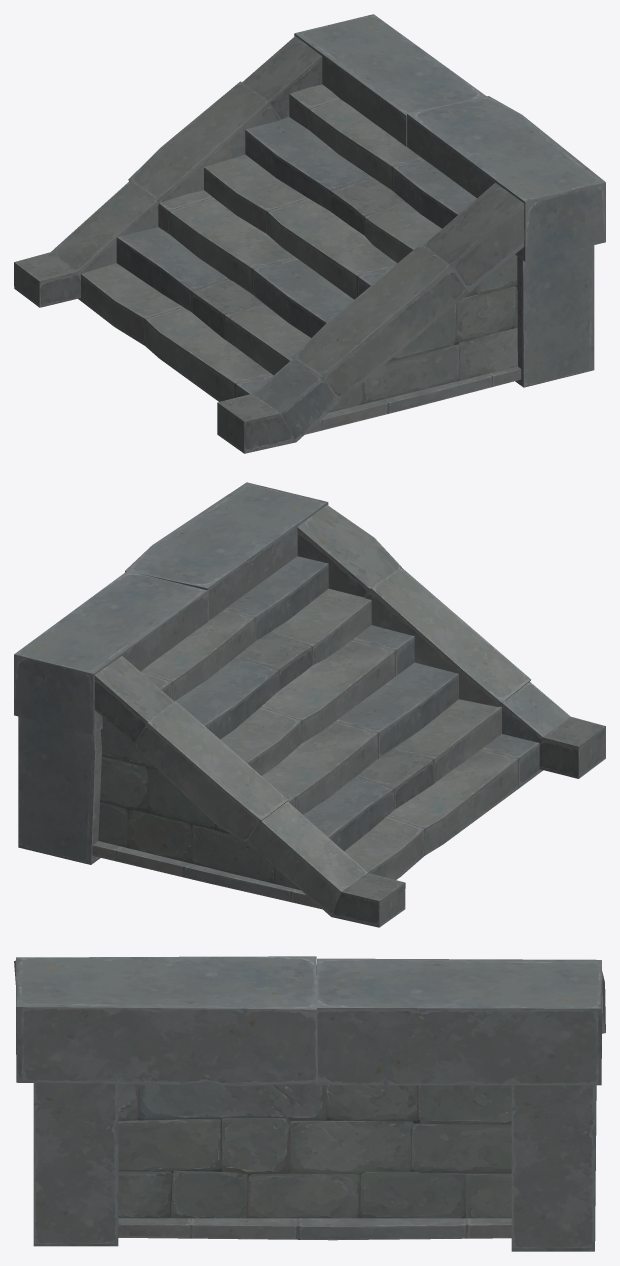
The model's file is Homeworld_Exterior_Cyg_Build_YlbJieti_01_Vo.fbx.
The picture shows the model from 3 angles, top to bottom: view 1: azimuth 30°, elevation 25°; view 2: azimuth 150°, elevation 25°; view 3: azimuth 270°, elevation 25°; orthographic projection. The views are drawn at different scales.
Visible parts, largest first — view 1: Homeworld_Exterior_Cyg_Build_YlbJieti_01_Vo; view 2: Homeworld_Exterior_Cyg_Build_YlbJieti_01_Vo; view 3: Homeworld_Exterior_Cyg_Build_YlbJieti_01_Vo.
Boxes of the visible parts, x1,y1,x2,y2 form: Homeworld_Exterior_Cyg_Build_YlbJieti_01_Vo: [14, 14, 605, 453]; Homeworld_Exterior_Cyg_Build_YlbJieti_01_Vo: [14, 482, 605, 927]; Homeworld_Exterior_Cyg_Build_YlbJieti_01_Vo: [14, 956, 605, 1251].
Size of the model in its own units: 4.1 by 2.09 by 4.53.
Materials: 2 (2 with a texture image).
